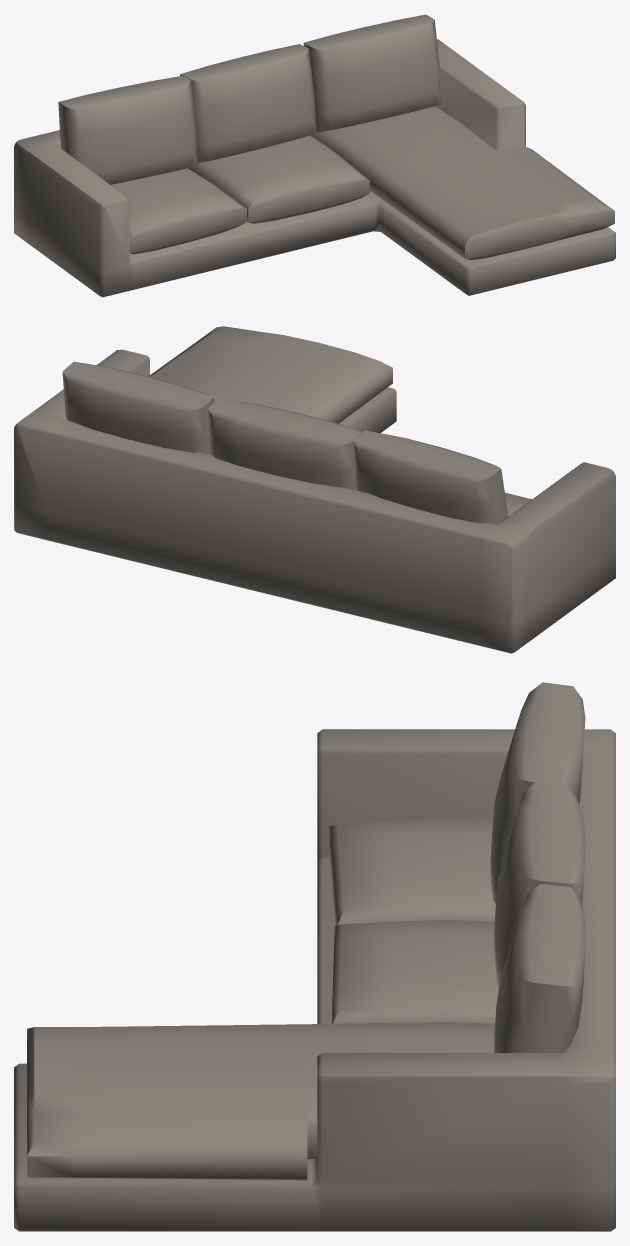
File: pk_sect_grey.glb
The picture shows the model from 3 angles, top to bottom: view 1: azimuth 30°, elevation 25°; view 2: azimuth 150°, elevation 25°; view 3: azimuth 270°, elevation 25°; orthographic projection. The views are drawn at different scales.
Visible parts, largest first — view 1: pk_sect_grey; view 2: pk_sect_grey; view 3: pk_sect_grey.
Part boxes in pixels (bbox=[...]): pk_sect_grey: bbox=[14, 14, 615, 297]; pk_sect_grey: bbox=[14, 326, 615, 653]; pk_sect_grey: bbox=[14, 682, 615, 1231].
Size of the model in its own units: 2.9 by 0.88 by 2.1.
1 material, 1 textured.
